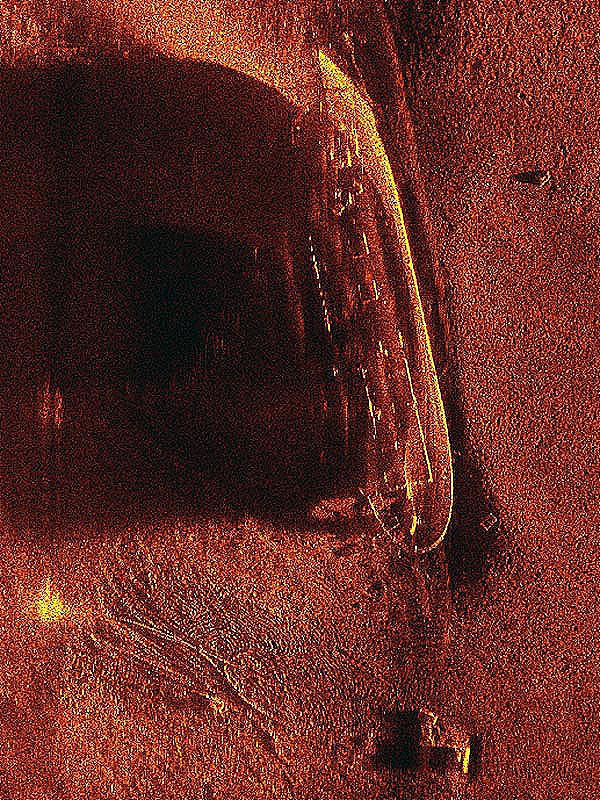ship: (284, 42, 455, 556)
